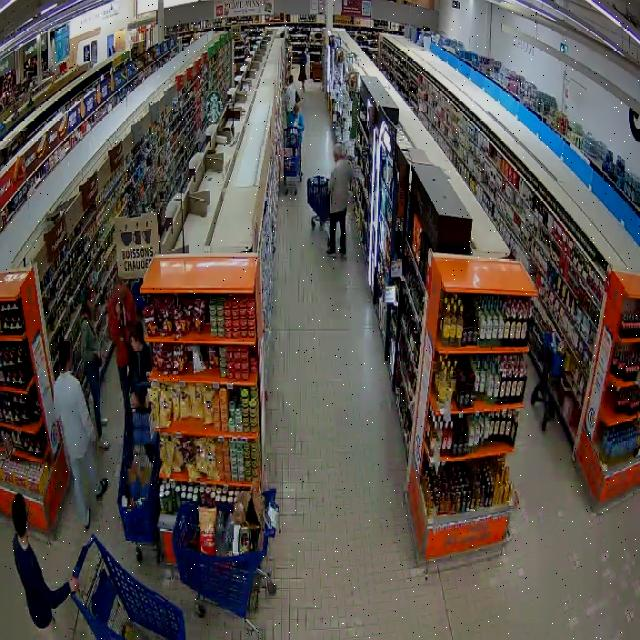bags: (96, 355, 102, 368), (296, 91, 299, 103)
hands: (70, 576, 79, 593), (130, 394, 140, 408), (91, 429, 97, 444), (145, 393, 150, 408)
person: (54, 341, 108, 528), (12, 494, 78, 638), (80, 296, 109, 448), (108, 278, 138, 420), (327, 144, 353, 256), (130, 322, 152, 410), (286, 75, 297, 125), (291, 104, 304, 146)
